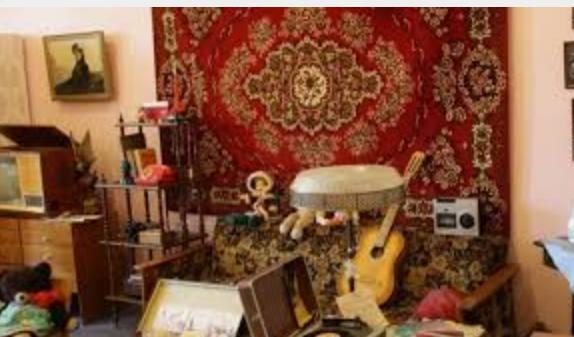carpet: (154, 9, 507, 235)
